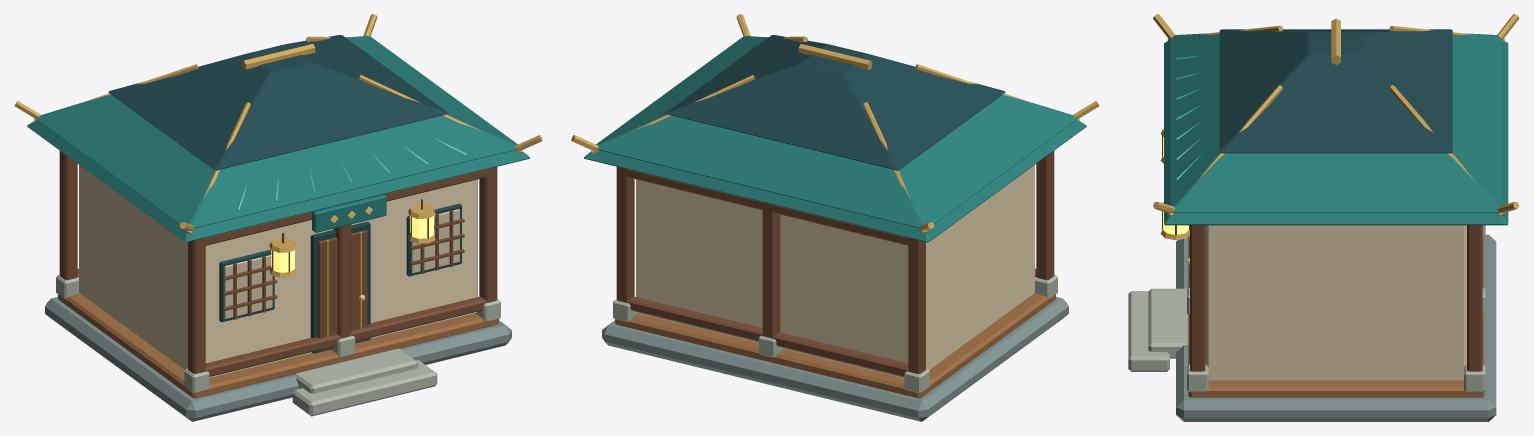
The model's file is house.glb.
3 views of the same model, side by side, from view 1: azimuth 30°, elevation 25°; view 2: azimuth 150°, elevation 25°; view 3: azimuth 270°, elevation 25° (orthographic). The views are drawn at different scales.
Parts seen in each view (by area): view 1: Cream plaster walls, Lantern Vale dwelling roof lower slope, Lantern Vale dwelling roof upper slope, Stone foundation, Raised timber floor, Lantern Vale dwelling roof lower eave, House long timber beam, Door teak panel, House welcome step.001, House welcome step, House carved timber post.004, House carved timber post (+11 smaller); view 2: Cream plaster walls, Lantern Vale dwelling roof lower slope, Lantern Vale dwelling roof upper slope, Stone foundation, Raised timber floor, Lantern Vale dwelling roof lower eave, House back timber beam, House back timber beam.001, House carved timber post.003, House carved timber post.005, House carved timber post.001, House carved timber post (+2 smaller); view 3: Cream plaster walls, Lantern Vale dwelling roof lower slope, Lantern Vale dwelling roof upper slope, Stone foundation, Lantern Vale dwelling roof lower eave, Raised timber floor, House welcome step, House carved timber post.004, House carved timber post.005, House welcome step.001, House stone post shoe.005, House stone post shoe.004 (+3 smaller).
Boxes of the visible parts, x1,y1,x2,y2 form: Cream plaster walls: [79, 165, 477, 378]; Lantern Vale dwelling roof lower slope: [35, 36, 517, 228]; Lantern Vale dwelling roof upper slope: [108, 35, 448, 170]; Stone foundation: [45, 297, 511, 421]; Raised timber floor: [58, 293, 498, 398]; Lantern Vale dwelling roof lower eave: [27, 120, 529, 242]; House long timber beam: [188, 296, 487, 376]; Door teak panel: [318, 230, 367, 350]; House welcome step.001: [292, 360, 437, 416]; House welcome step: [295, 348, 417, 393]; House carved timber post.004: [479, 167, 497, 302]; House carved timber post: [188, 238, 205, 373]; Cream plaster walls: [636, 165, 1034, 378]; Lantern Vale dwelling roof lower slope: [596, 36, 1078, 228]; Lantern Vale dwelling roof upper slope: [665, 35, 1005, 170]; Stone foundation: [602, 297, 1068, 421]; Raised timber floor: [615, 293, 1055, 398]; Lantern Vale dwelling roof lower eave: [584, 120, 1086, 242]; House back timber beam: [616, 296, 925, 376]; House back timber beam.001: [616, 167, 925, 247]; House carved timber post.003: [762, 202, 780, 338]; House carved timber post.005: [616, 167, 634, 302]; House carved timber post.001: [908, 238, 925, 373]; House carved timber post: [1036, 151, 1054, 280]; Cream plaster walls: [1205, 225, 1466, 380]; Lantern Vale dwelling roof lower slope: [1170, 33, 1501, 212]; Lantern Vale dwelling roof upper slope: [1219, 29, 1452, 153]; Stone foundation: [1176, 234, 1496, 421]; Lantern Vale dwelling roof lower eave: [1164, 41, 1508, 225]; Raised timber floor: [1188, 236, 1484, 397]; House welcome step: [1148, 288, 1188, 358]; House carved timber post.004: [1190, 225, 1205, 371]; House carved timber post.005: [1467, 225, 1482, 371]; House welcome step.001: [1128, 291, 1169, 371]; House stone post shoe.005: [1464, 364, 1485, 392]; House stone post shoe.004: [1187, 364, 1208, 392].
Size of the model in its own units: 5.23 by 3.85 by 4.52.
